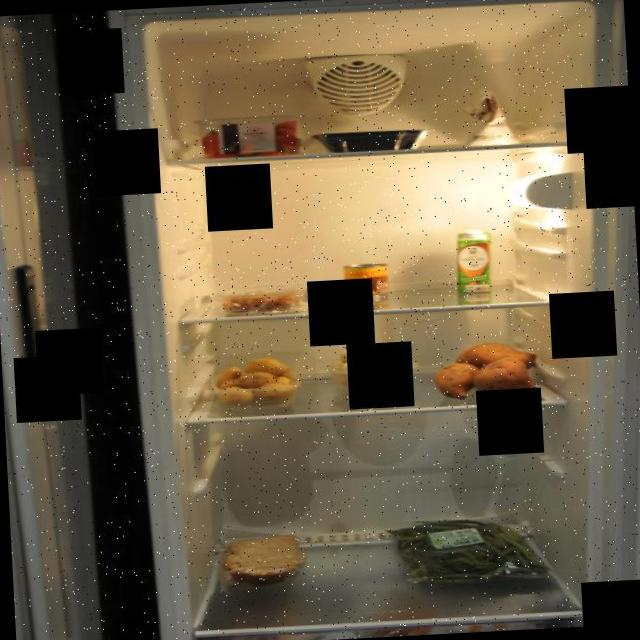Champiñones: (326, 341, 418, 396)
Gambas/Langostinos: (222, 290, 306, 316)
Patata: (210, 352, 302, 413)
bread: (221, 532, 309, 589)
corn: (342, 260, 392, 306)
flour: (455, 89, 520, 150)
green_beans: (386, 514, 552, 586)
heavy_cream: (454, 226, 496, 296)
strawberries: (198, 114, 312, 160)
sweet_potato: (433, 336, 543, 404)
